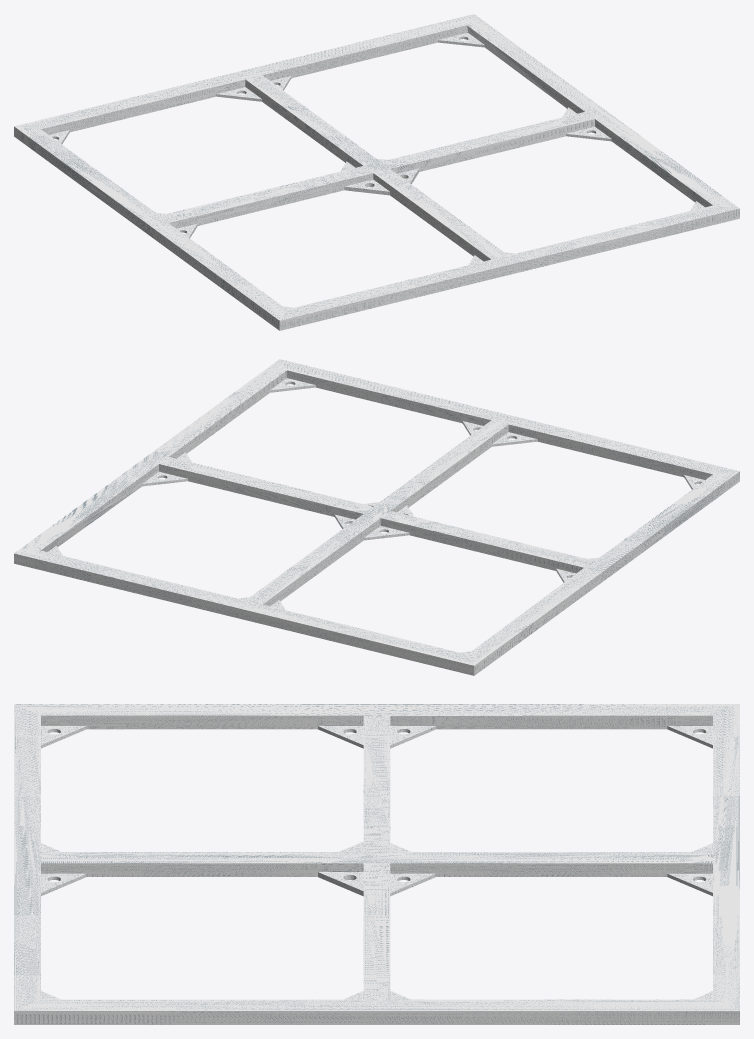
The model's file is 4x Modul.obj.
The picture shows the model from 3 angles, top to bottom: view 1: azimuth 30°, elevation 25°; view 2: azimuth 150°, elevation 25°; view 3: azimuth 270°, elevation 25°; orthographic projection. The views are drawn at different scales.
Parts seen in each view (by area): view 1: Mesh1 Model; view 2: Mesh1 Model; view 3: Mesh1 Model.
Boxes of the visible parts, x1=… form: Mesh1 Model: x1=14, y1=14, x2=739, y2=330; Mesh1 Model: x1=14, y1=359, x2=739, y2=675; Mesh1 Model: x1=14, y1=704, x2=739, y2=1024.
Size of the model in its own units: 270 by 5.7 by 270.
